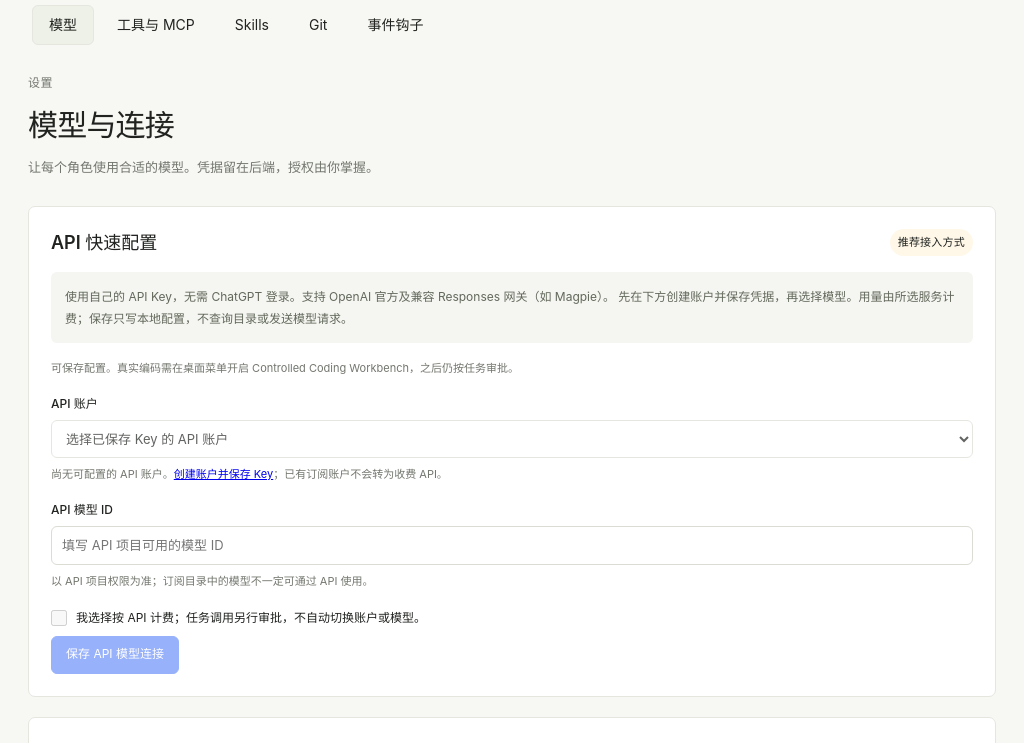
Test: does not lose a successful save when a settings refresh was requested while it was pending
The width and height of the screenshot is (1024, 743).
Click the button "工具与 MCP" at (156, 25), box [100,5,212,45]
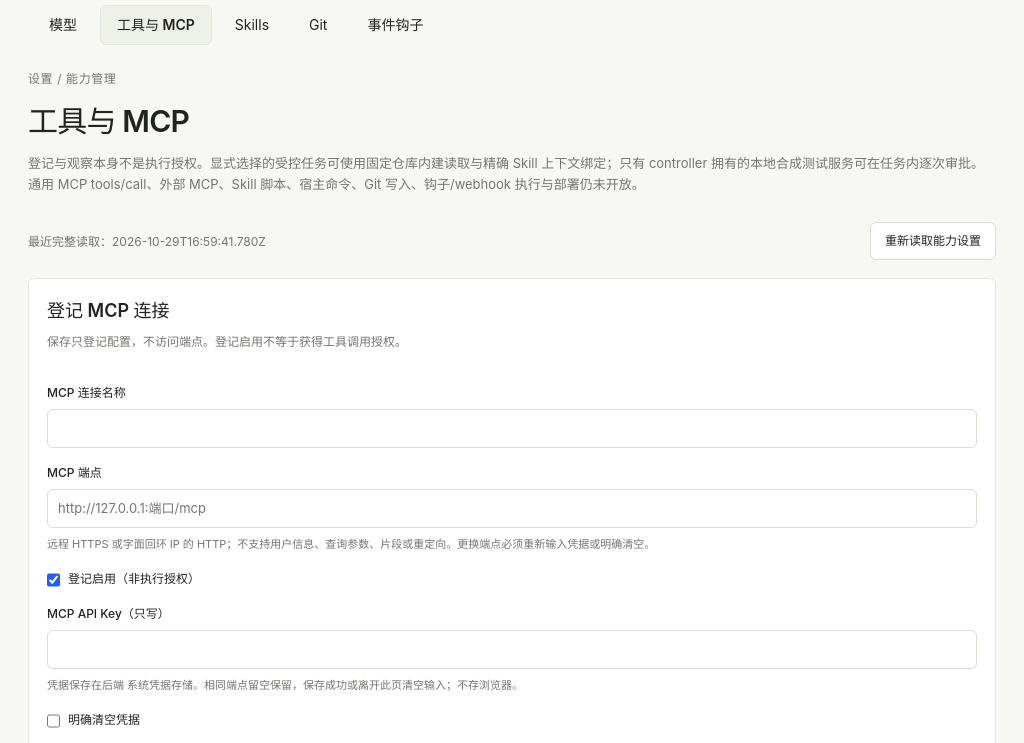
Type "本机发现 fixture" into the field labelled "MCP 连接名称" at (512, 428), box [47,409,977,448]
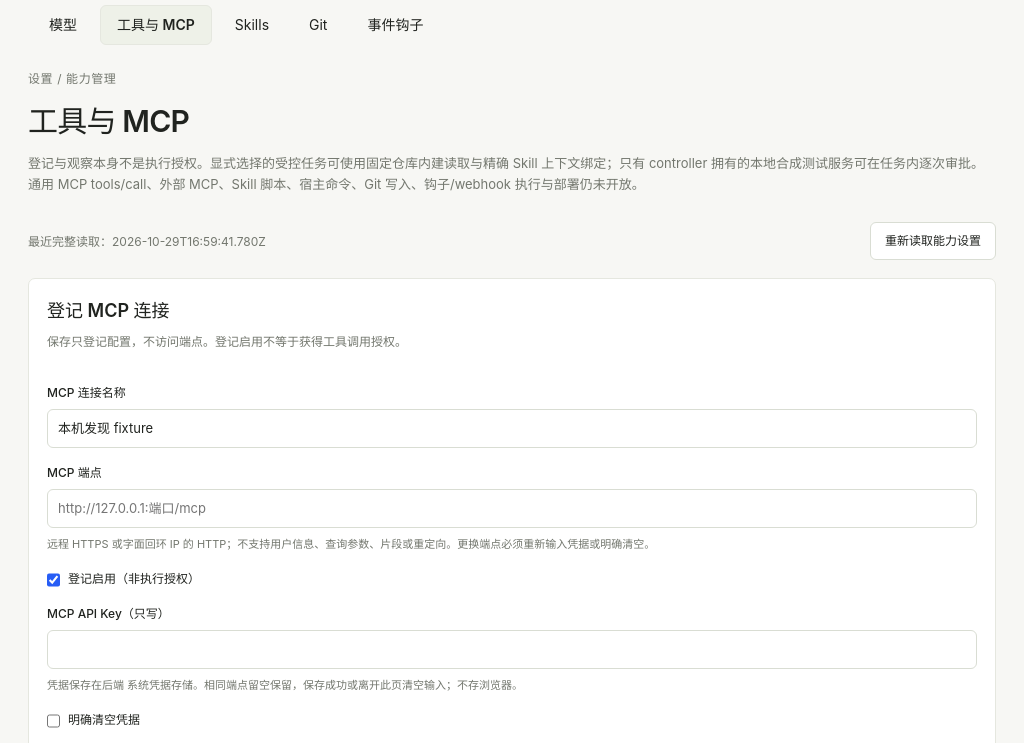
Type "http://127.0.0.1:9998/mcp" into the field labelled "MCP 端点" at (512, 508), box [47,489,977,528]
(page scrolled)
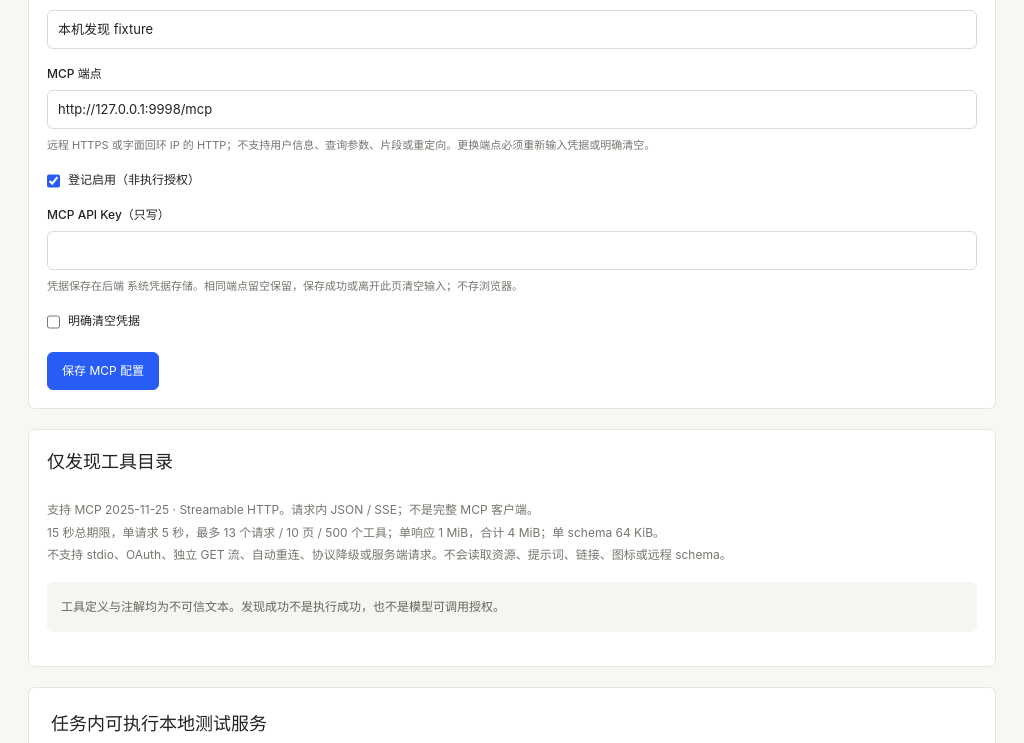
Click the button "保存 MCP 配置" at (103, 372), box [47,352,159,390]
(page scrolled)
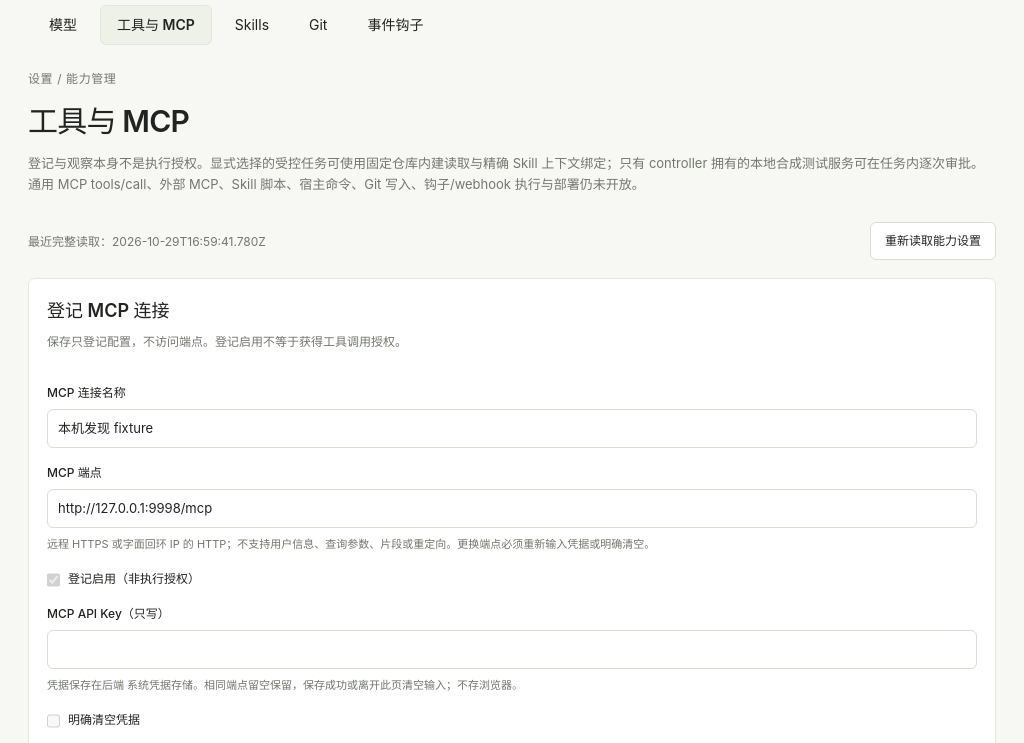
Click the button "重新读取能力设置" at (933, 241), box [870,222,996,260]
(page scrolled)
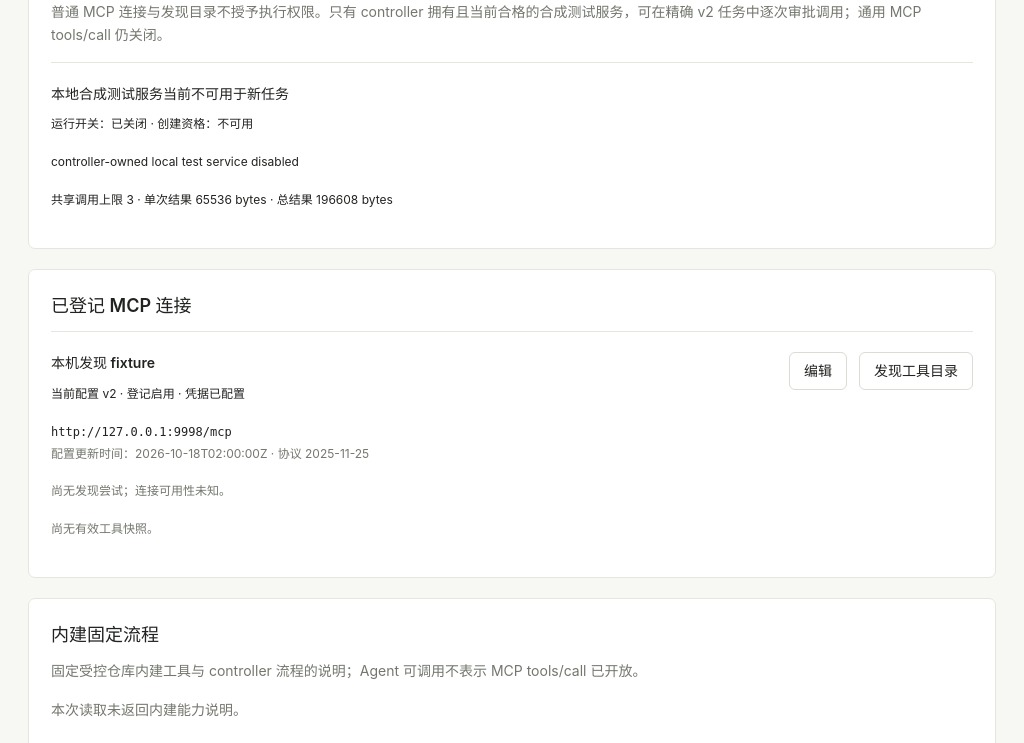
Expected: the button with aria-label "编辑 MCP 本机发现 fixture" is shown, [789,352,847,390]
